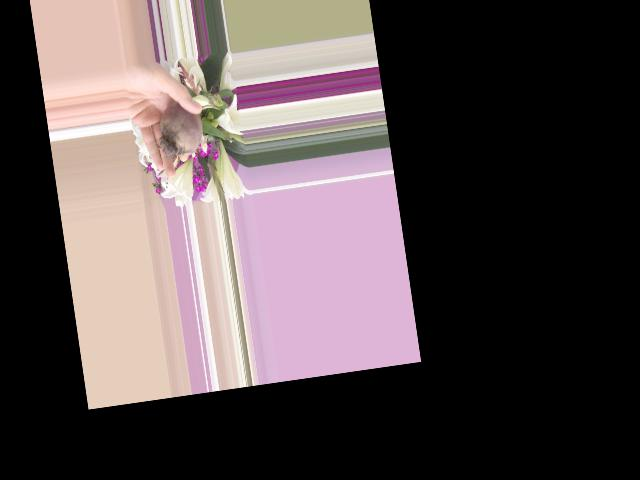beet: (155, 96, 226, 160)
